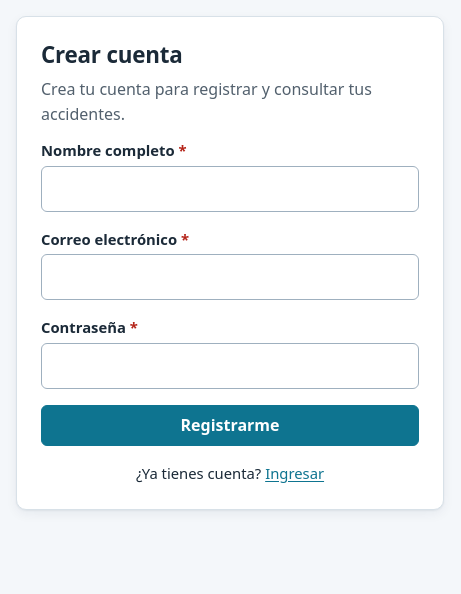
it: RegisterPage › 429 muestra mensaje de demasiados intentos
The image size is (461, 594).
In the field labelled "Nombre completo": (230, 188) top-left (41, 166), bottom-right (419, 212), type "Ana Pérez"
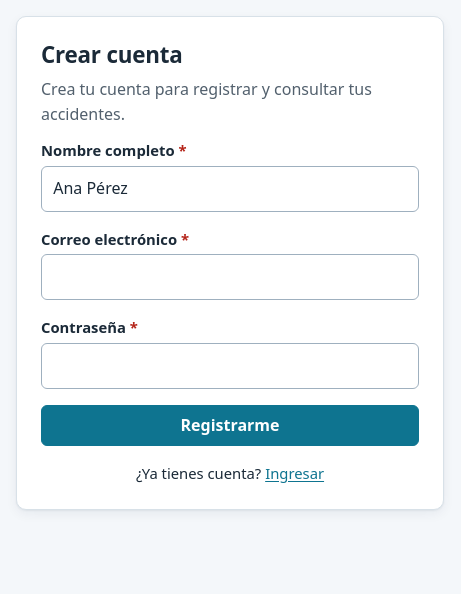
In the field labelled "Correo electrónico": (230, 277) top-left (41, 254), bottom-right (419, 300), type "a@b.co"
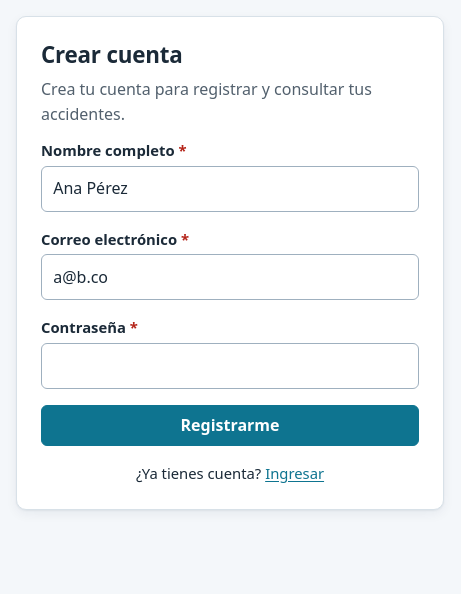
In the password field labelled "Contraseña": (230, 366) top-left (41, 343), bottom-right (419, 389), type "secreto123"
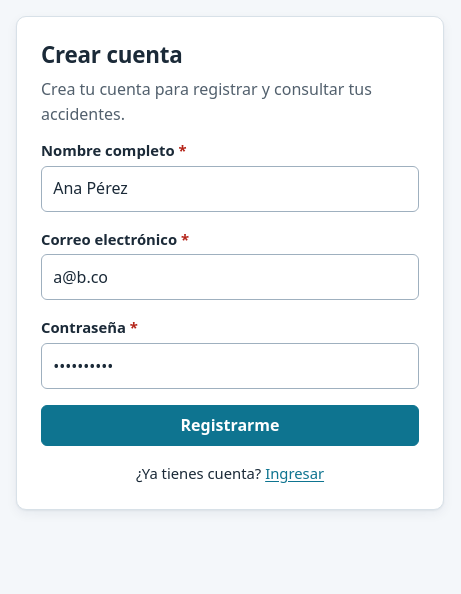
Click the button "Registrarme": (230, 426) top-left (41, 405), bottom-right (419, 446)
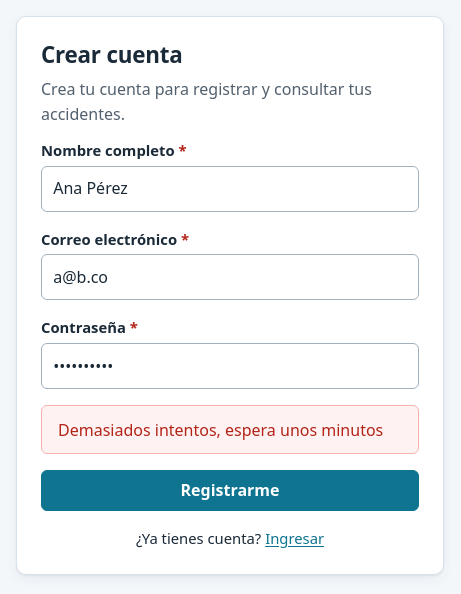
Now the message shows "Demasiados intentos", box top-left (58, 418), bottom-right (383, 440)
